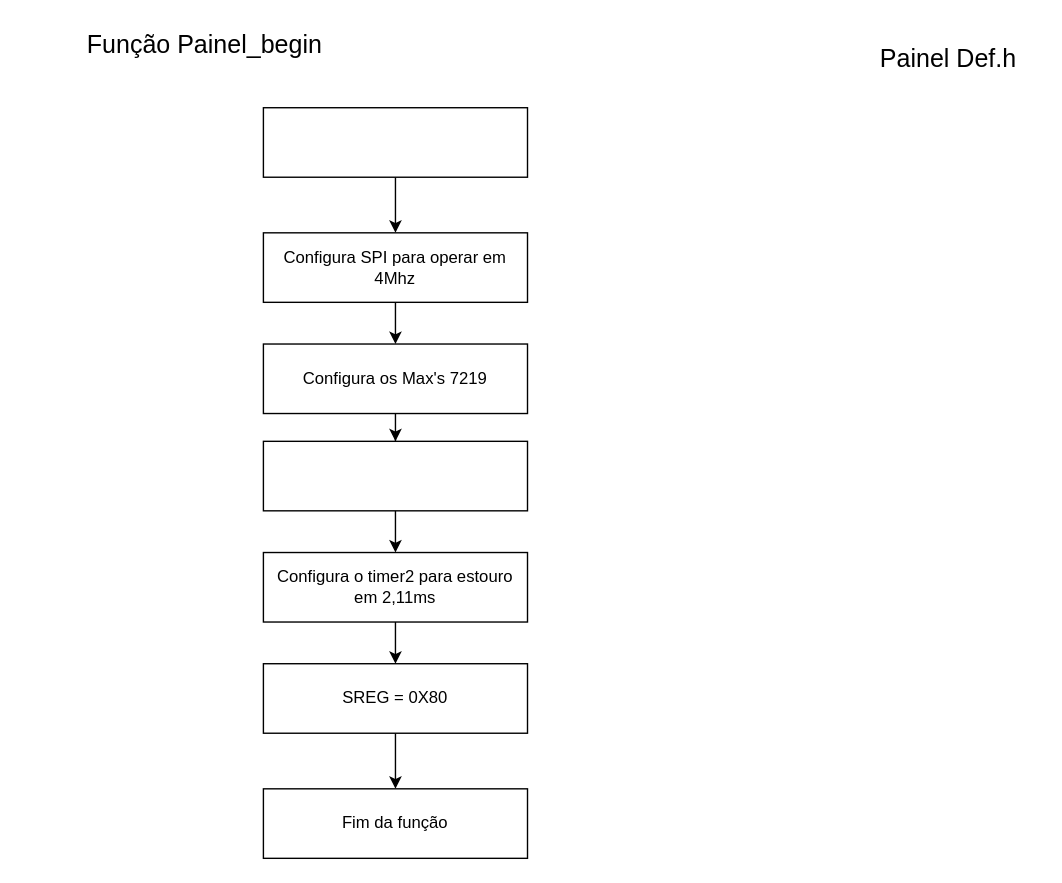
The diagram is 1062 pixels wide and 883 high, and some of its shapes have lost their labels. Here are the shapes that lost their labels. From the top down, the centre of each, then its label:
At point (395, 141): "SREG = 0X00".
At point (395, 475): "Configura o timer1 para estouro em 8,64 ms".
